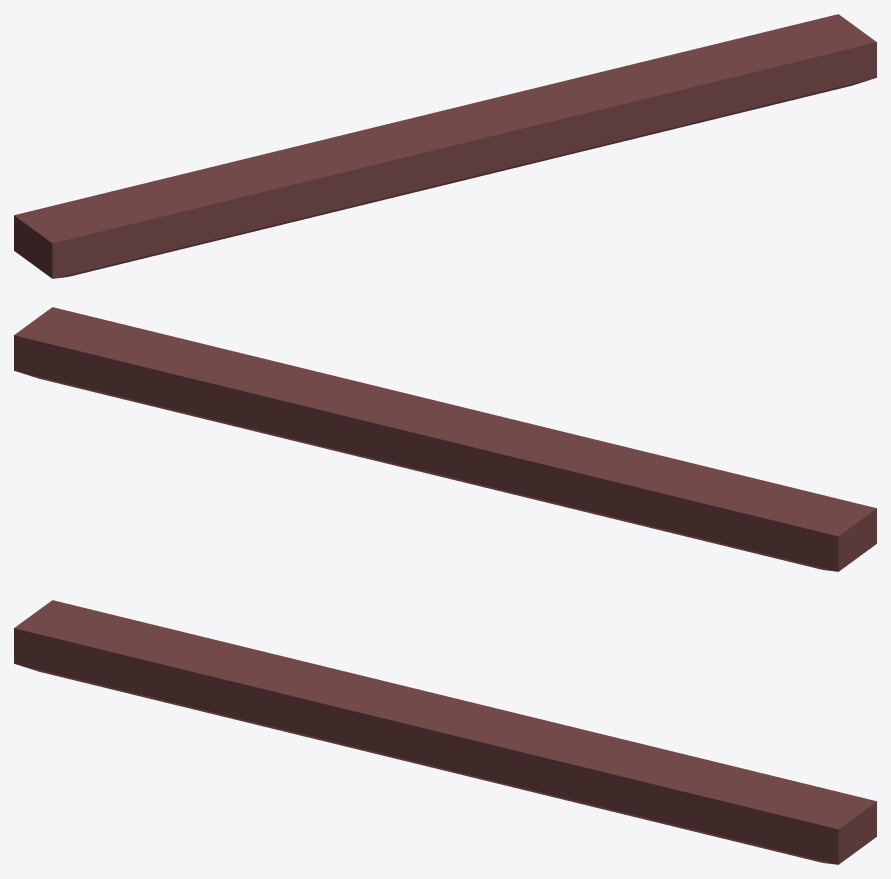
File: light.fbx
The picture shows the model from 3 angles, top to bottom: view 1: azimuth 30°, elevation 25°; view 2: azimuth 150°, elevation 25°; view 3: azimuth 330°, elevation 25°; orthographic projection.
Visible parts, largest first — view 1: pCube7; view 2: pCube7; view 3: pCube7.
Boxes of the visible parts, bbox=[...] form: pCube7: bbox=[14, 14, 876, 278]; pCube7: bbox=[14, 307, 876, 571]; pCube7: bbox=[14, 600, 876, 864].
Bounding box in the file's own units: 198 × 9.67 × 16.04.
